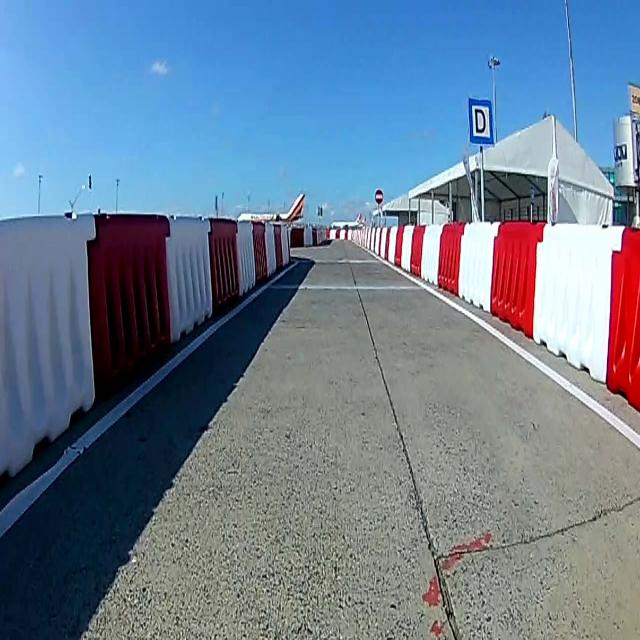durak: (468, 97, 494, 147)
girisyok: (374, 188, 384, 205)
